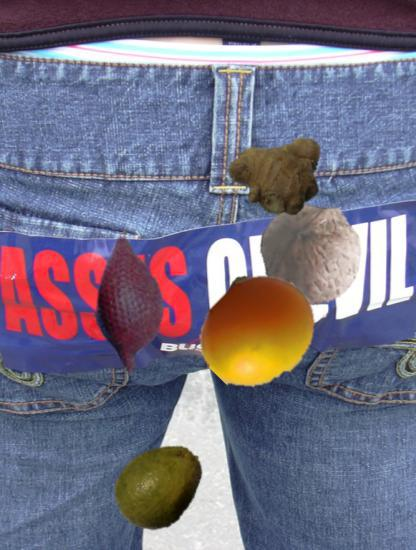Cherry: (199, 273, 318, 392)
Ginger: (231, 124, 324, 217), (212, 273, 300, 361)
Guava: (112, 438, 210, 536)
Limes: (225, 306, 297, 378)
Salak: (60, 237, 201, 378)
Walnut: (257, 201, 364, 308)
